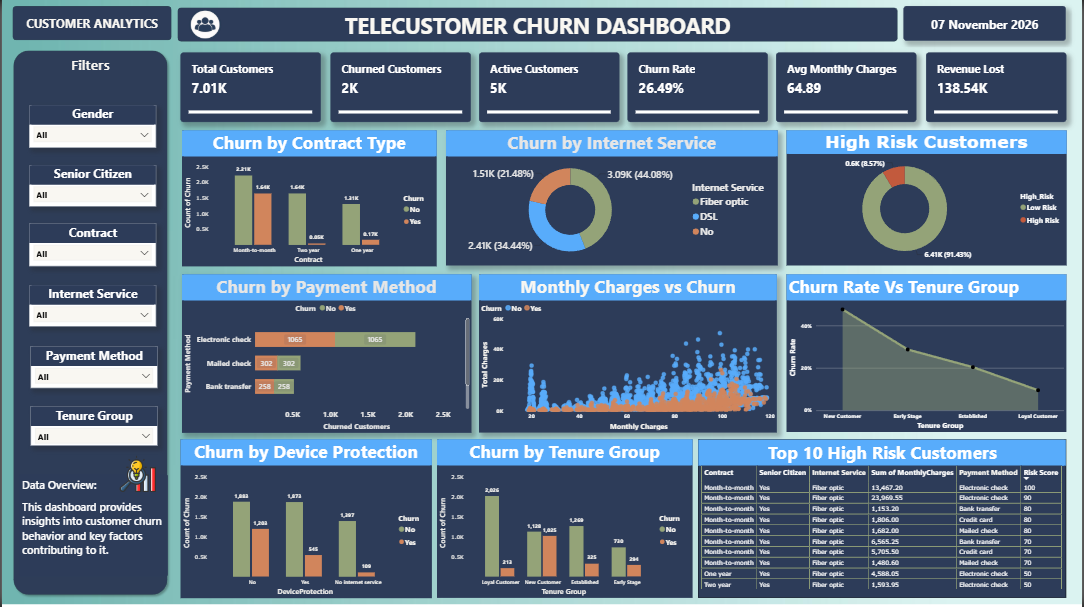

The page's visual inventory and layout, read from the dashboard file:
{"tool":"powerbi","page":{"name":"Page 1","canvas":[2400,1350],"ordinal":0},"visuals":[{"type":"shape","box":[391,15,1600.4,75.8],"z":0},{"type":"shape","box":[15,102.5,360,1227.5],"z":0,"group":"g2"},{"type":"group","id":"g1","title":"Group 1","box":[397.5,117.5,1967.5,155],"z":1000},{"type":"slicer","title":"Gender","fields":{"Values":["Telco.gender"]},"box":[57.7,232,282.5,95],"z":1000,"group":"g2"},{"type":"group","id":"g2","title":"Group 3","box":[15,102.5,360,1227.5],"z":2000},{"type":"slicer","title":"Senior Citizen","fields":{"Values":["Telco.SeniorCitizen"]},"box":[57.7,367,282.5,92.5],"z":2000,"group":"g2"},{"type":"cardVisual","title":"T","fields":{"Data":["Telco.Measure"]},"box":[2004.6,14.2,360.4,77.5],"z":3000},{"type":"slicer","title":"Internet Service","fields":{"Values":["Telco.InternetService"]},"box":[57.7,632,282.5,92.5],"z":3000,"group":"g2"},{"type":"shape","box":[22.5,15,353.7,76.3],"z":4000},{"type":"slicer","title":"Contract","fields":{"Values":["Telco.Contract"]},"box":[59,497,282.5,95],"z":4000,"group":"g2"},{"type":"cardVisual","title":"T","fields":{"Data":["Telco.Total Customers"]},"box":[397.5,117.8,311.8,154.5],"z":5000,"group":"g1"},{"type":"donutChart","title":"Churn by Internet Service","fields":{"Y":["CountNonNull(Telco.Churn)"],"Category":["Telco.InternetService"]},"box":[985,290,737.5,300],"z":5000},{"type":"slicer","title":"Payment Method","fields":{"Values":["Telco.PaymentMethod"]},"box":[61,767.7,282.5,92.5],"z":5000,"group":"g2"},{"type":"image","box":[375.9,12.5,149.4,85],"z":6000},{"type":"cardVisual","title":"T","fields":{"Data":["Telco.Churned Customers"]},"box":[730.8,117.8,311.8,154.5],"z":6000,"group":"g1"},{"type":"slicer","title":"Tenure Group","fields":{"Values":["Telco.Tenure_Group"]},"box":[61.5,902,282.5,87.5],"z":6000,"group":"g2"},{"type":"clusteredColumnChart","title":"Churn by Tenure Group","fields":{"Series":["Telco.Churn"],"Y":["CountNonNull(Telco.Churn)"],"Category":["Telco.Tenure_Group"]},"box":[966.9,977.8,568.1,352.2],"z":6000,"group":"g3"},{"type":"cardVisual","title":"T","fields":{"Data":["Telco.Active Customers"]},"box":[1059.8,117.8,311.8,154.5],"z":7000,"group":"g1"},{"type":"barChart","title":"Churn by Payment Method","fields":{"Series":["Telco.Churn"],"Category":["Telco.PaymentMethod"],"Y":["Telco.Churned Customers"]},"box":[398.3,608.3,643.3,351.7],"z":7000},{"type":"clusteredColumnChart","title":"Churn by Device Protection","fields":{"Series":["Telco.Churn"],"Y":["CountNonNull(Telco.Churn)"],"Category":["Telco.DeviceProtection"]},"box":[397.5,977.5,558.6,352.5],"z":7000,"group":"g3"},{"type":"textbox","box":[34,1054,332,228],"z":7000,"group":"g2"},{"type":"cardVisual","title":"T","fields":{"Data":["Telco.Churn Rate"]},"box":[1390.9,117.8,311.8,154.5],"z":8000,"group":"g1"},{"type":"clusteredColumnChart","title":"Churn by Contract Type","fields":{"Category":["Telco.Contract"],"Series":["Telco.Churn"],"Y":["CountNonNull(Telco.Churn)"]},"box":[400,290,566,302],"z":8000},{"type":"image","box":[236,1010,130,86],"z":8000,"group":"g2"},{"type":"cardVisual","title":"T","fields":{"Data":["Telco.Avg Monthly Charges"]},"box":[1722.1,117.8,311.8,154.5],"z":9000,"group":"g1"},{"type":"scatterChart","title":"Monthly Charges vs Churn","fields":{"X":["Telco.MonthlyCharges"],"Y":["Sum(Telco.TotalCharges)"],"Series":["ServiceAnalysis.Churn"]},"box":[1060,608.9,662.2,351.1],"z":9000},{"type":"cardVisual","title":"T","fields":{"Data":["Telco.Revenue Lost"]},"box":[2053.7,117.5,311.8,154.7],"z":10000,"group":"g1"},{"type":"lineChart","title":"Churn Rate Vs Tenure Group","fields":{"Category":["Telco.Tenure_Group"],"Y":["Telco.Churn Rate"]},"box":[1743.3,608.3,621.7,350],"z":10000},{"type":"donutChart","title":"High Risk Customers","fields":{"Y":["CountNonNull(Telco.High_Risk)"],"Category":["Telco.High_Risk"]},"box":[1742.5,290,622.5,300],"z":11000},{"type":"tableEx","title":"Top 10 High Risk Customers","fields":{"Values":["Telco.Contract","Telco.SeniorCitizen","Telco.InternetService","Sum(Telco.MonthlyCharges)","Telco.PaymentMethod","Sum(Telco.RiskScore)"]},"box":[1548,978,818,352],"z":12000},{"type":"group","id":"g3","title":"Group 4","box":[397.5,977.5,1137.5,352.5],"z":13000}]}

Visuals, with their boxes in screenshot pixels (x1, y1, x2, y2), scaled from the page's 2400x1350 canvas onto the 1084x607 screenshot:
shape: (177,7,899,41)
shape: (7,46,169,598)
"Group 1" group: (180,53,1068,123)
"Gender" slicer: (26,104,154,147)
"Group 3" group: (7,46,169,598)
"Senior Citizen" slicer: (26,165,154,207)
"T" cardVisual: (905,6,1068,41)
"Internet Service" slicer: (26,284,154,326)
shape: (10,7,170,41)
"Contract" slicer: (27,223,154,266)
"T" cardVisual: (180,53,320,122)
"Churn by Internet Service" donutChart: (445,130,778,265)
"Payment Method" slicer: (28,345,155,387)
image: (170,6,237,44)
"T" cardVisual: (330,53,471,122)
"Tenure Group" slicer: (28,406,155,445)
"Churn by Tenure Group" clusteredColumnChart: (437,440,693,598)
"T" cardVisual: (479,53,620,122)
"Churn by Payment Method" barChart: (180,274,470,432)
"Churn by Device Protection" clusteredColumnChart: (180,440,432,598)
textbox: (15,474,165,576)
"T" cardVisual: (628,53,769,122)
"Churn by Contract Type" clusteredColumnChart: (181,130,436,266)
image: (107,454,165,493)
"T" cardVisual: (778,53,919,122)
"Monthly Charges vs Churn" scatterChart: (479,274,778,432)
"T" cardVisual: (928,53,1068,122)
"Churn Rate Vs Tenure Group" lineChart: (787,274,1068,431)
"High Risk Customers" donutChart: (787,130,1068,265)
"Top 10 High Risk Customers" tableEx: (699,440,1069,598)
"Group 4" group: (180,440,693,598)
